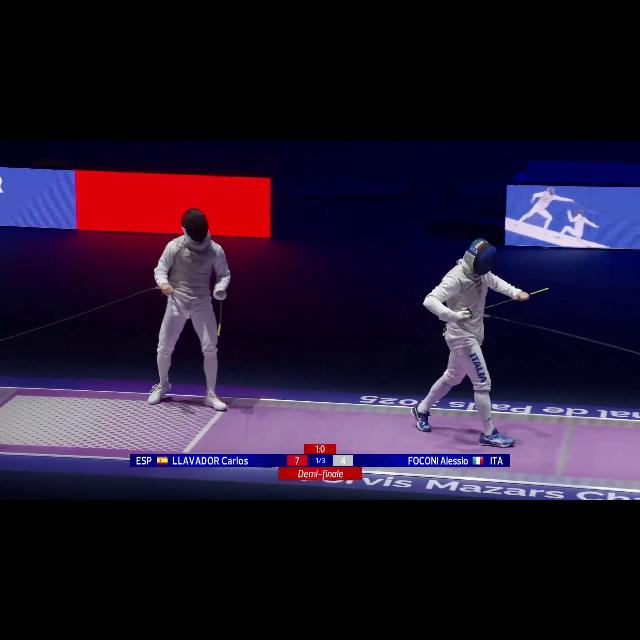blade: (462, 288, 550, 320), (210, 288, 233, 338)
